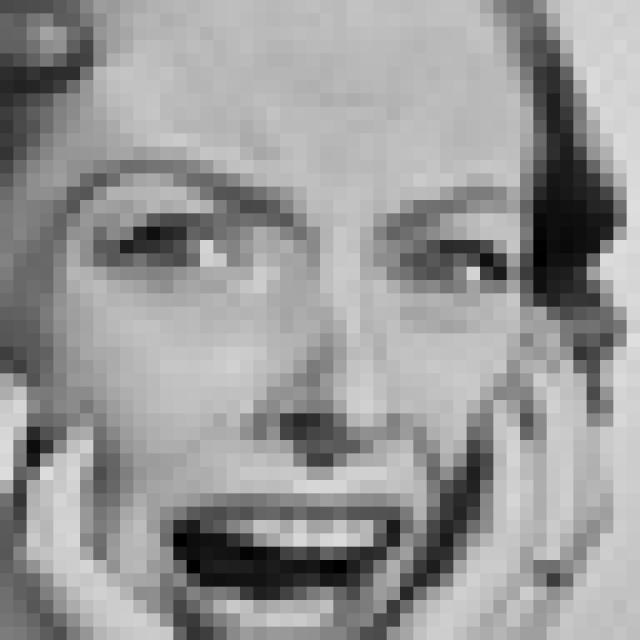fear: (42, 149, 521, 640)
